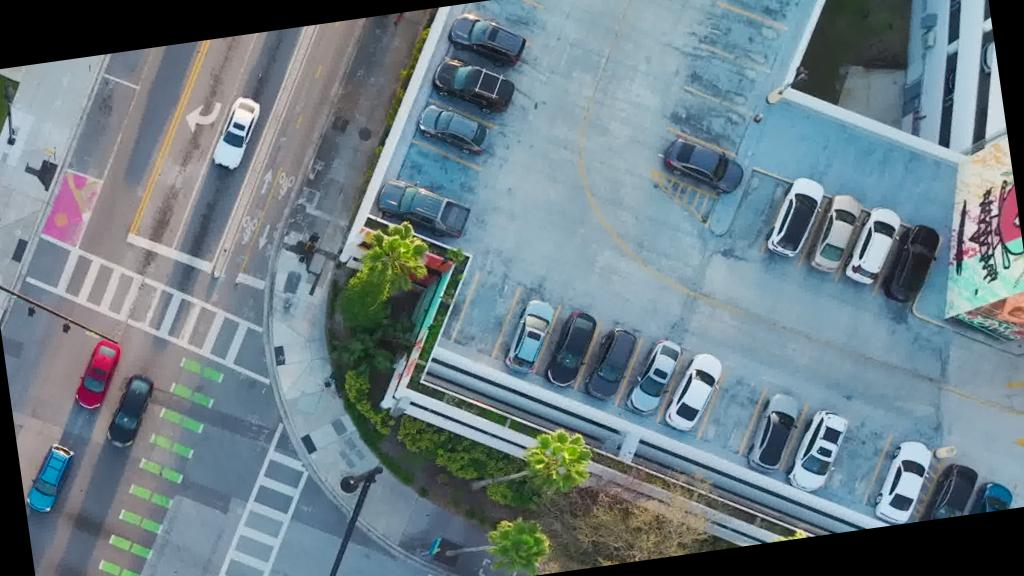cars: (375, 170, 478, 250), (865, 438, 941, 528), (780, 407, 856, 495), (430, 48, 519, 123), (758, 175, 832, 261), (662, 130, 748, 202), (836, 204, 909, 288), (876, 222, 949, 306), (446, 5, 532, 76), (801, 191, 872, 276), (658, 350, 730, 433), (618, 336, 690, 418), (739, 391, 806, 476), (496, 297, 564, 377), (538, 309, 606, 389), (204, 94, 270, 174), (416, 98, 495, 162), (578, 326, 644, 402), (98, 372, 162, 450), (18, 441, 82, 515), (68, 337, 130, 412), (910, 461, 982, 522), (950, 480, 1014, 516)
